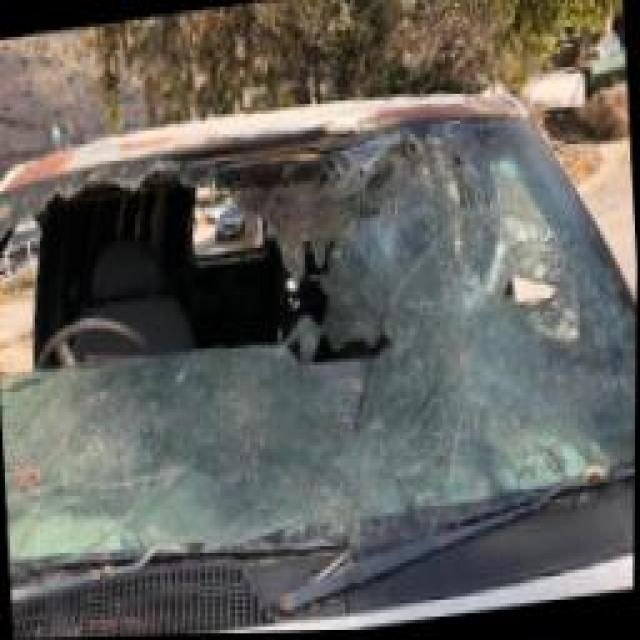Windshield: (0, 97, 639, 598)
